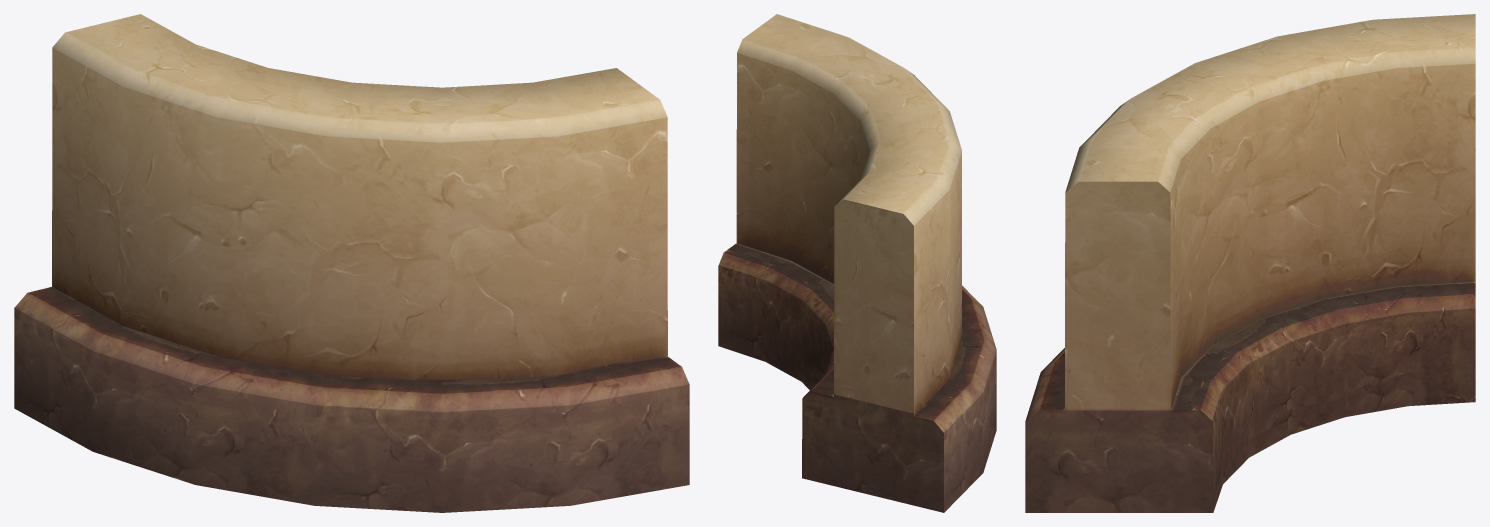
The model's file is DE_House_Mod_Part_33.fbx.
3 renders of one model, left to right at view 1: azimuth 30°, elevation 25°; view 2: azimuth 150°, elevation 25°; view 3: azimuth 270°, elevation 25°, orthographic. The views are drawn at different scales.
Parts seen in each view (by area): view 1: DE_House_Mod_Part_33; view 2: DE_House_Mod_Part_33; view 3: DE_House_Mod_Part_33.
Part boxes in pixels (x1,y1,x2,y2): DE_House_Mod_Part_33: (14, 14, 689, 512); DE_House_Mod_Part_33: (718, 14, 996, 512); DE_House_Mod_Part_33: (1025, 14, 1475, 512).
Bounding box in the file's own units: 4.46 × 3.62 × 4.46.
